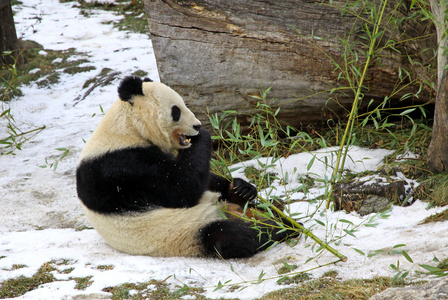panda: (65, 59, 301, 263)
